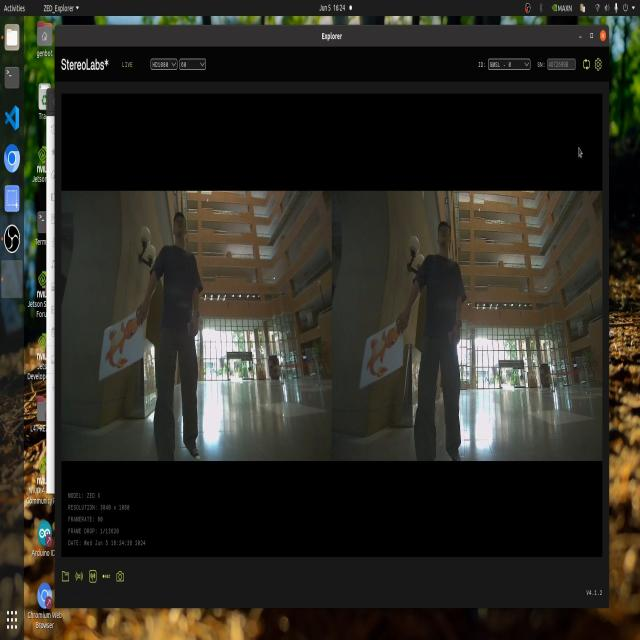red: (94, 315, 143, 376), (356, 313, 400, 378)
